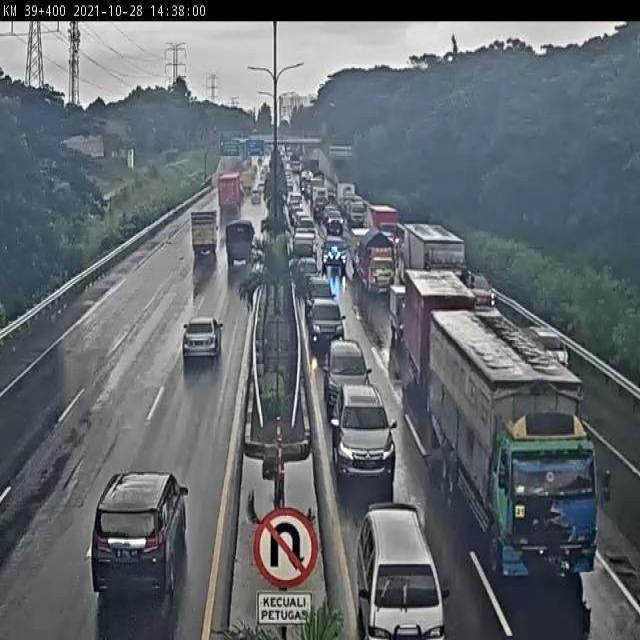big truck: (427, 308, 614, 604), (215, 167, 246, 220)
car: (89, 466, 190, 614), (350, 497, 448, 640), (332, 380, 410, 487), (319, 334, 385, 422), (524, 297, 579, 395), (178, 312, 235, 368), (310, 300, 346, 349), (308, 273, 340, 327), (370, 203, 402, 241), (321, 233, 351, 271), (293, 255, 321, 289), (326, 212, 345, 233), (249, 188, 265, 205)
small truck: (409, 224, 476, 297), (358, 234, 402, 294), (185, 207, 223, 257), (224, 219, 257, 276)
